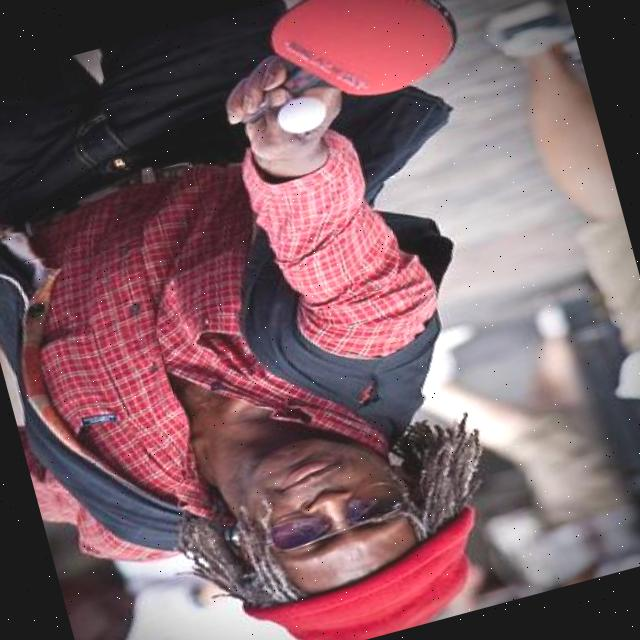ping-pong-ball: (272, 93, 330, 139)
